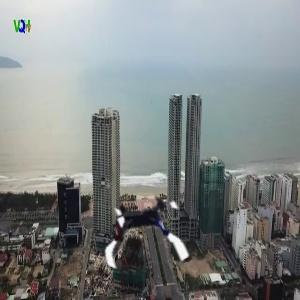drone: (96, 189, 191, 284)
